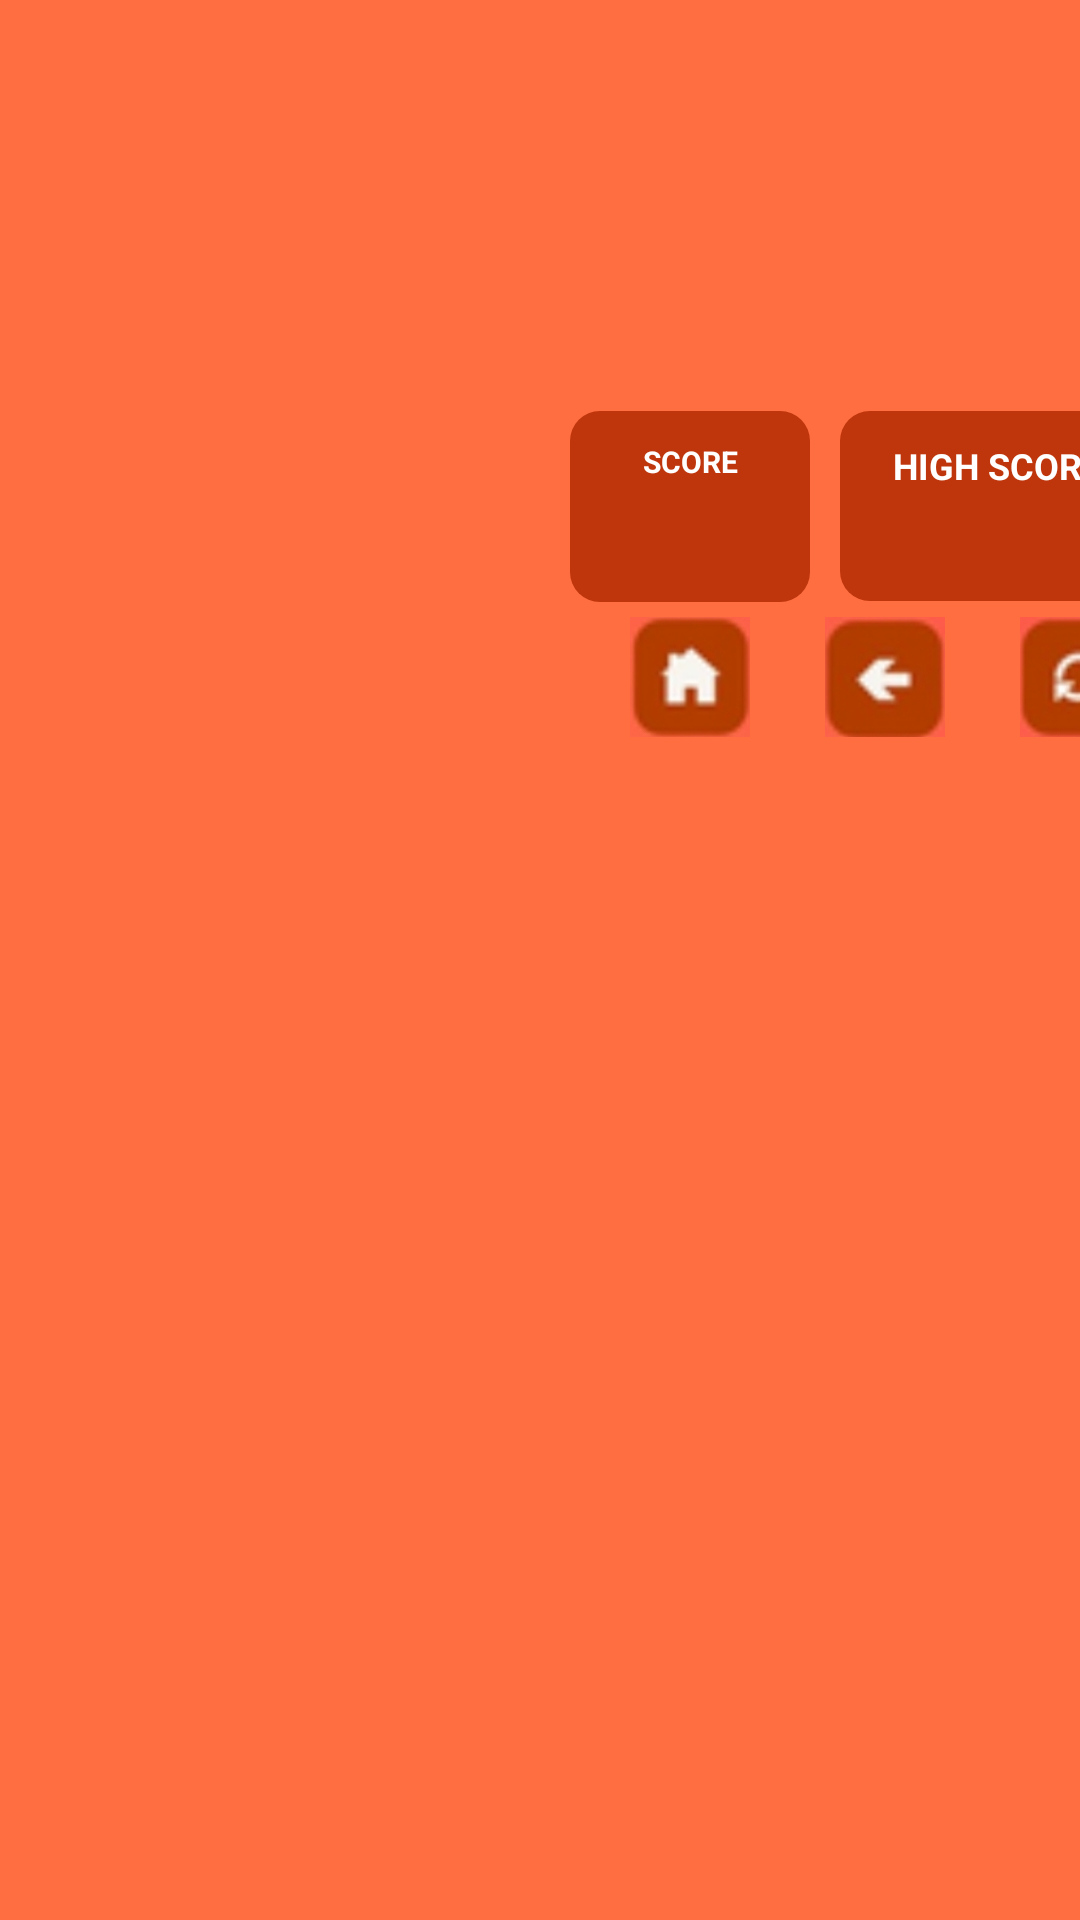

Where to tap for icons on this 1080w x 1920h app screen, as [x,y]:
back: [884,678]
home: [691,677]
